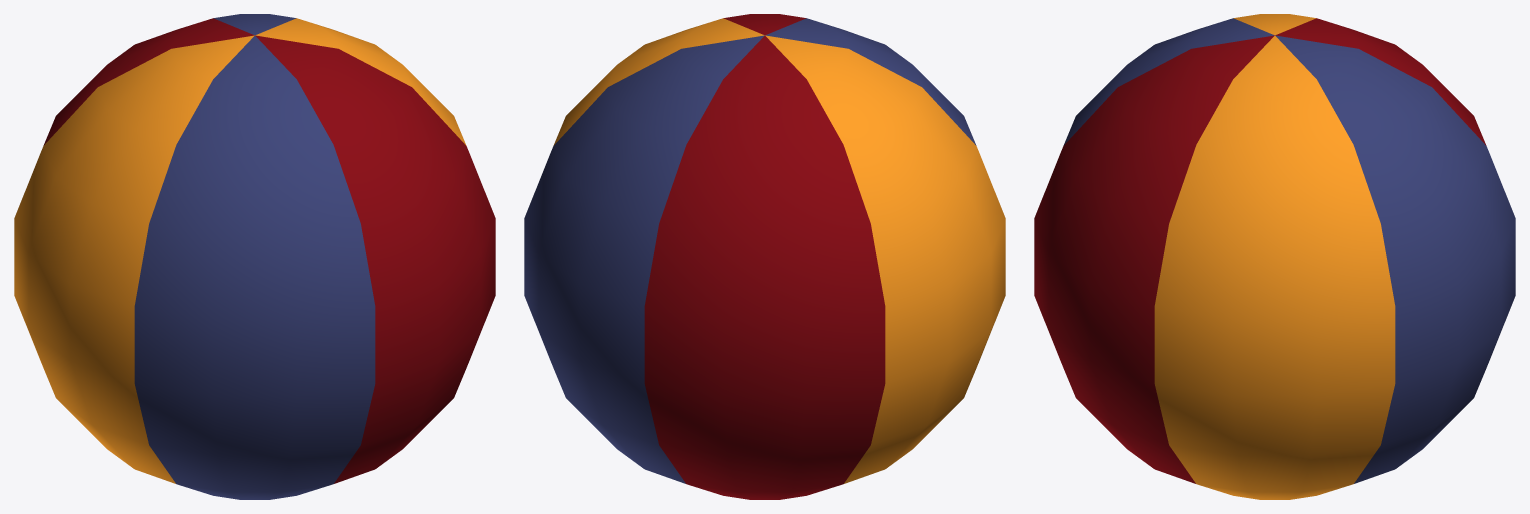
Rendered from ThrowProp_Ball.FBX.
3 views of the same model, side by side, from view 1: azimuth 30°, elevation 25°; view 2: azimuth 150°, elevation 25°; view 3: azimuth 270°, elevation 25° (orthographic).
Parts seen in each view (by area): view 1: Ball; view 2: Ball; view 3: Ball.
Part boxes in pixels (x1,y1,x2,y2): Ball: (14,14,495,499); Ball: (524,14,1005,499); Ball: (1034,14,1515,499).
Bounding box in the file's own units: 29.1 × 30 × 29.54.
